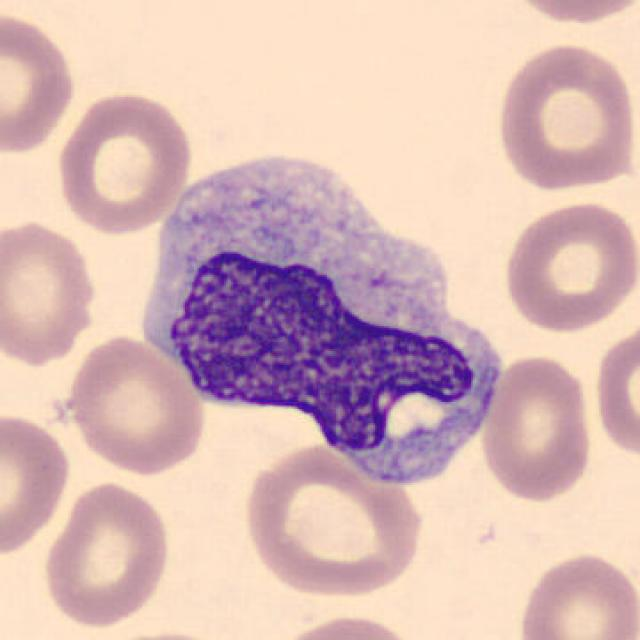Monocyte: (130, 132, 503, 474)
RBC: (236, 441, 426, 601), (492, 39, 638, 194), (60, 331, 210, 478), (54, 86, 195, 236), (39, 478, 174, 629), (498, 197, 638, 335), (478, 351, 596, 504), (0, 217, 101, 367), (0, 7, 80, 157), (514, 548, 638, 640), (0, 409, 73, 559), (590, 319, 638, 464), (269, 610, 423, 640), (498, 0, 640, 28)
